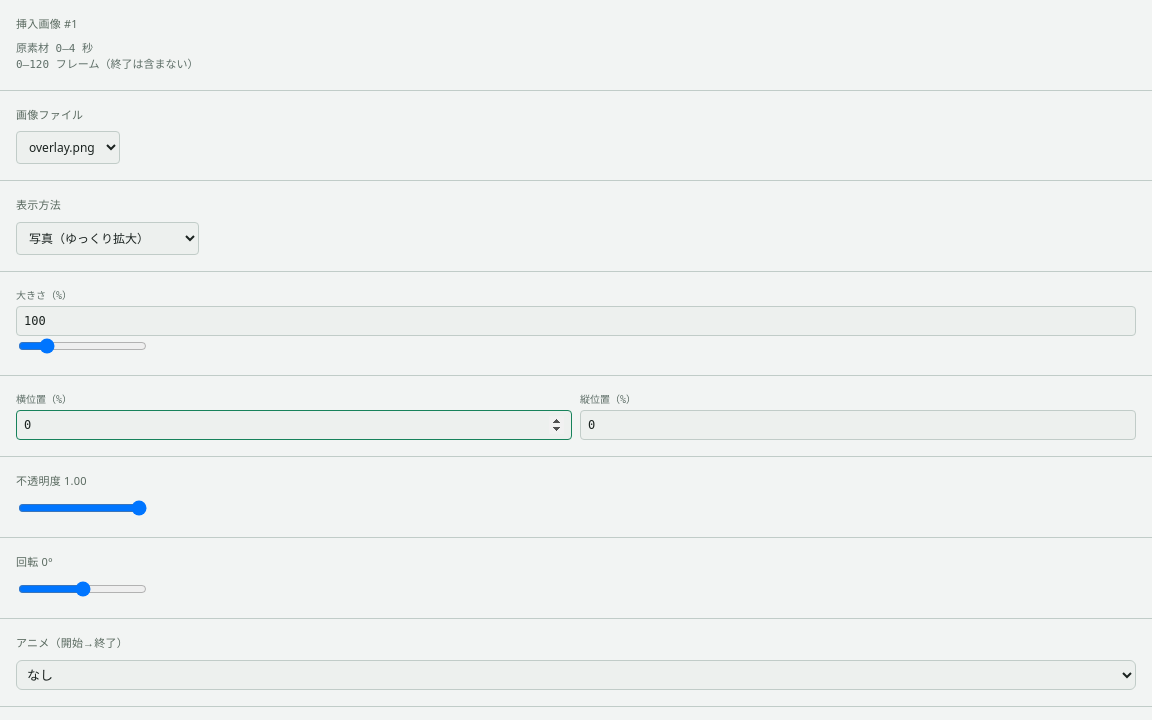
Scenario: image controls reflect actual rendering support › cancels a numeric draft with Escape and does not turn an empty value into zero
Replace the text in the number field labelled "横位置（%）" with "81.25" at (294, 425), box top-left (16, 410), bottom-right (572, 440)
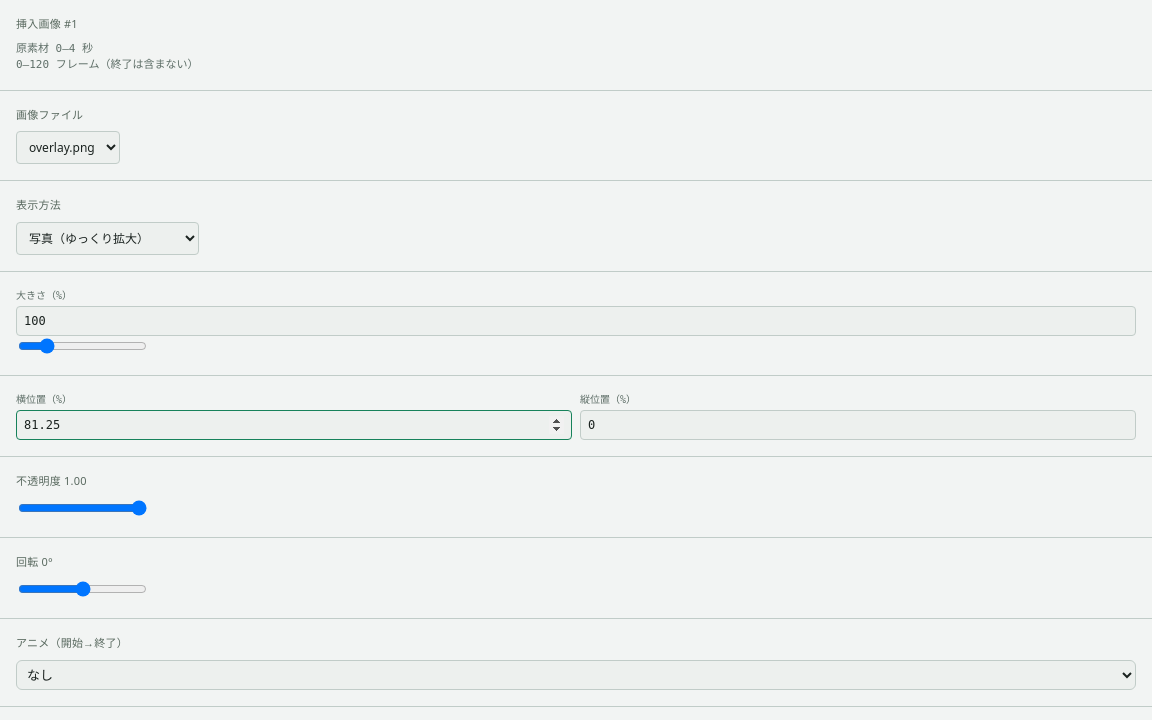
Press Escape in the number field labelled "横位置（%）", box top-left (16, 410), bottom-right (572, 440)
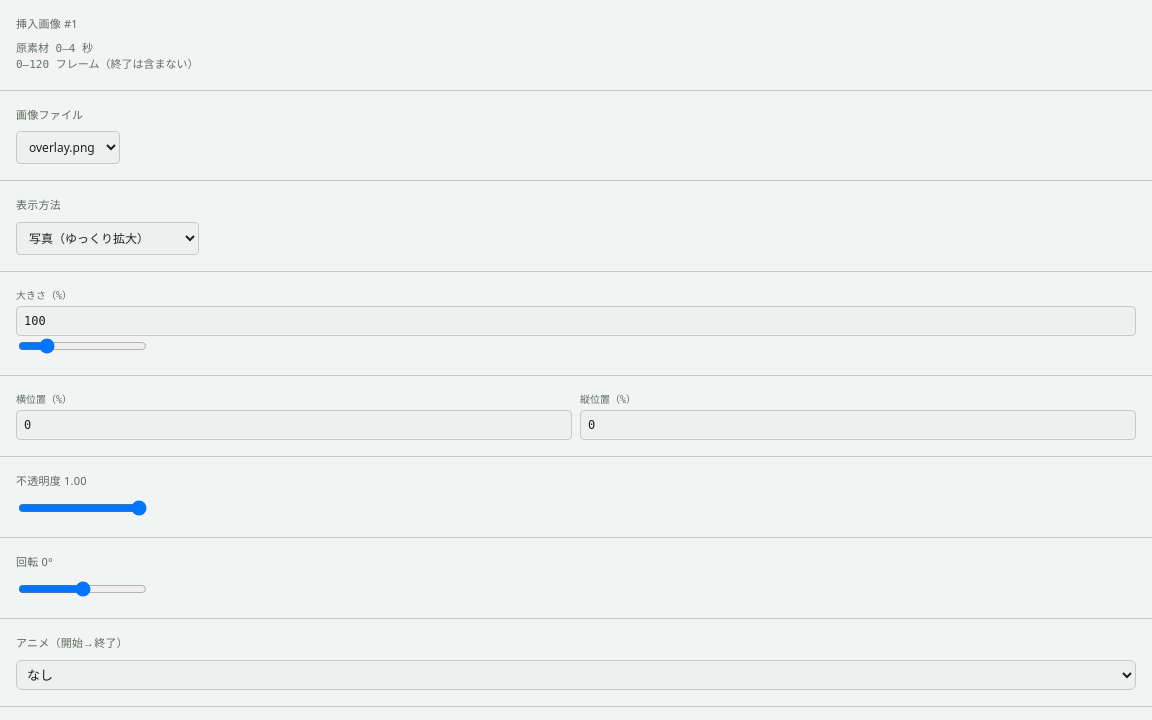
Expected: the number field labelled "横位置（%）" holds "0"
Clear the number field labelled "横位置（%）" at (294, 425), box top-left (16, 410), bottom-right (572, 440)
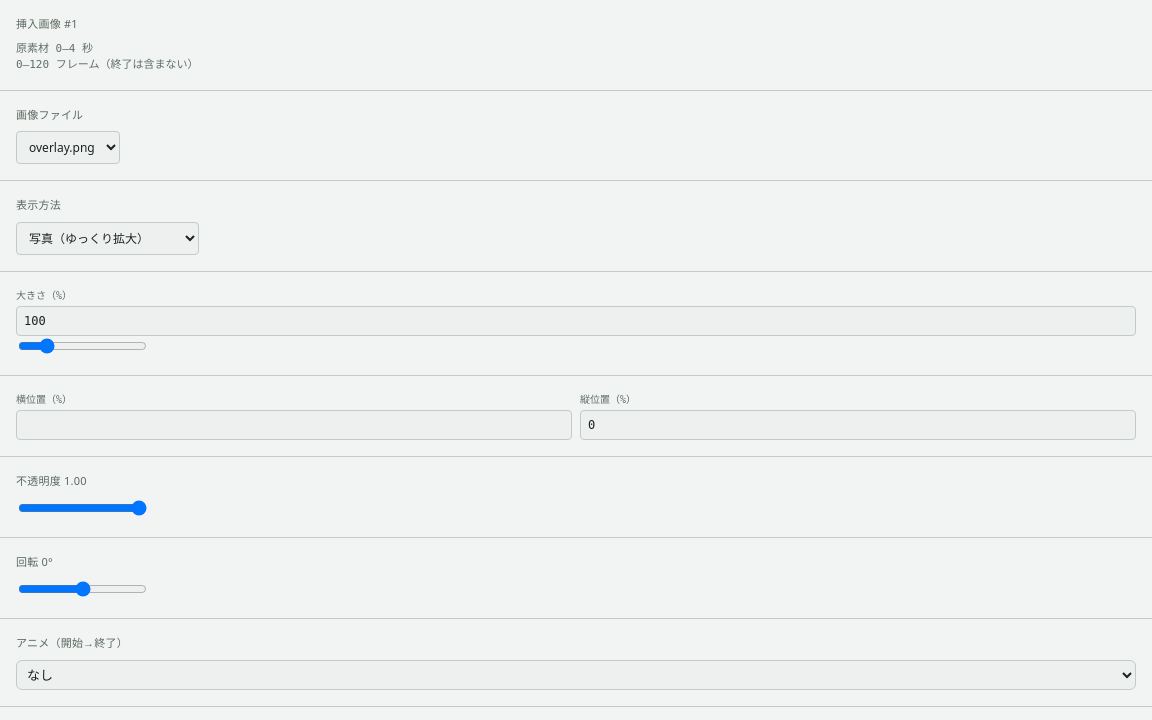
Leave the number field labelled "横位置（%）", box top-left (16, 410), bottom-right (572, 440)
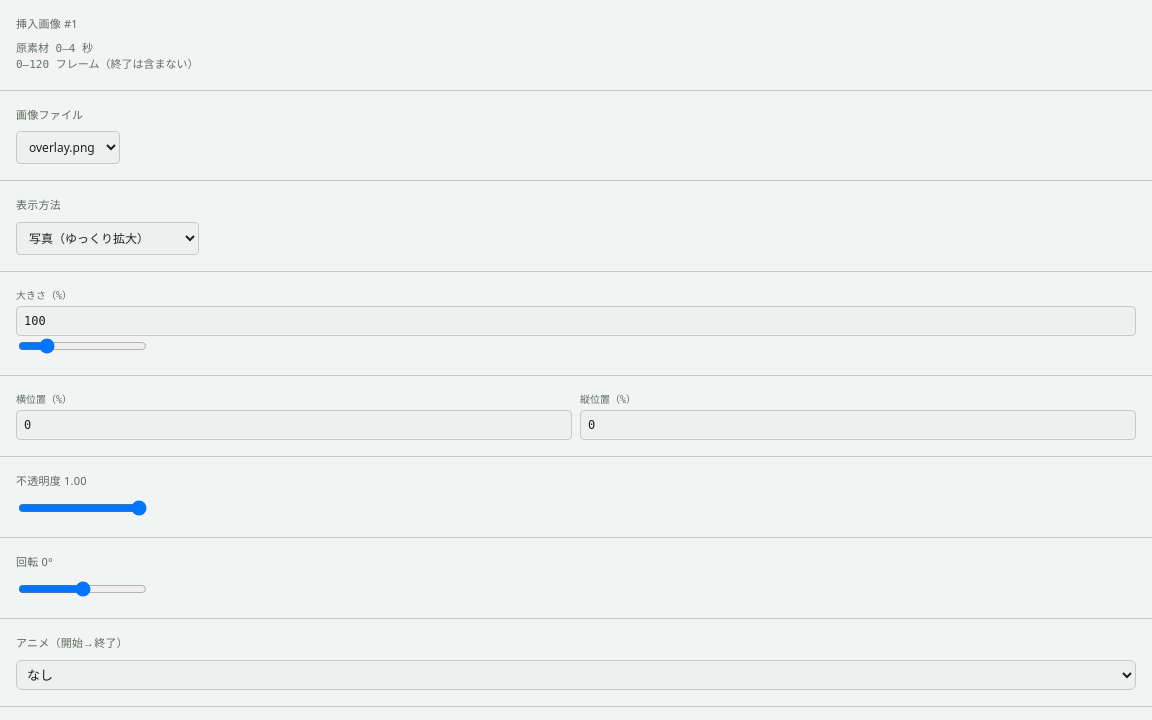
Expected: the number field labelled "横位置（%）" holds "0", top-left (16, 410), bottom-right (572, 440)
